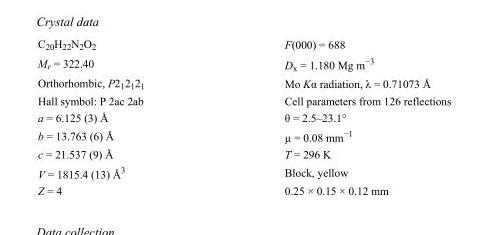table: (37, 36, 450, 196)
table column: (213, 36, 450, 196), (37, 36, 213, 196)
table row: (37, 53, 450, 74), (37, 125, 450, 145), (37, 162, 450, 181), (37, 74, 450, 92), (37, 36, 450, 53), (37, 108, 450, 125), (37, 145, 450, 162), (37, 92, 450, 108), (37, 181, 450, 196)
